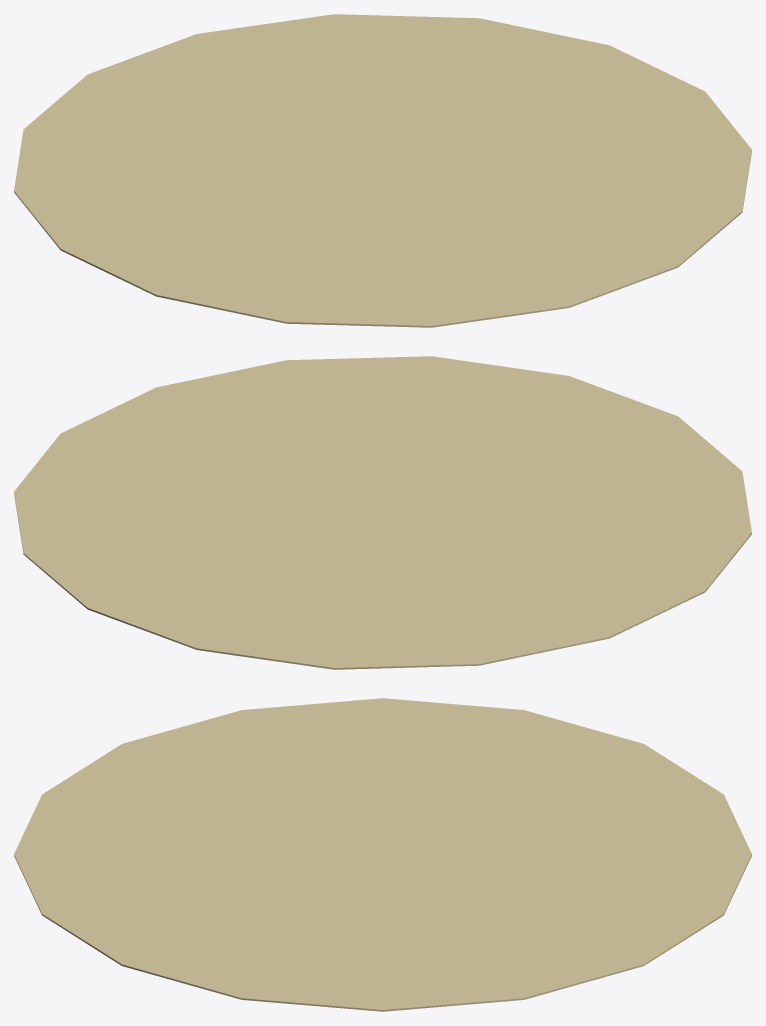
The model's file is tf_golf_bunker_8m.glb.
3 renders of one model, top to bottom at view 1: azimuth 30°, elevation 25°; view 2: azimuth 150°, elevation 25°; view 3: azimuth 270°, elevation 25°, orthographic.
Parts seen in each view (by area): view 1: tf_golf_bunker_8m; view 2: tf_golf_bunker_8m; view 3: tf_golf_bunker_8m.
Boxes of the visible parts, x1,y1,x2,y2 form: tf_golf_bunker_8m: [14, 14, 751, 327]; tf_golf_bunker_8m: [14, 356, 751, 669]; tf_golf_bunker_8m: [14, 698, 751, 1011].
Size of the model in its own units: 8 by 0.02 by 8.
